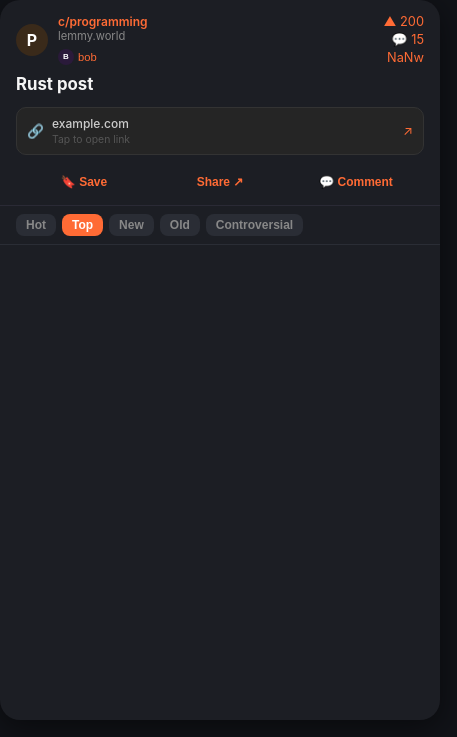
PostCard › clicking Comment button shows Commenting on post header in sheet
The width and height of the screenshot is (457, 737).
Click the button with test id "comment-button" at [356, 182], box [288, 174, 424, 188]
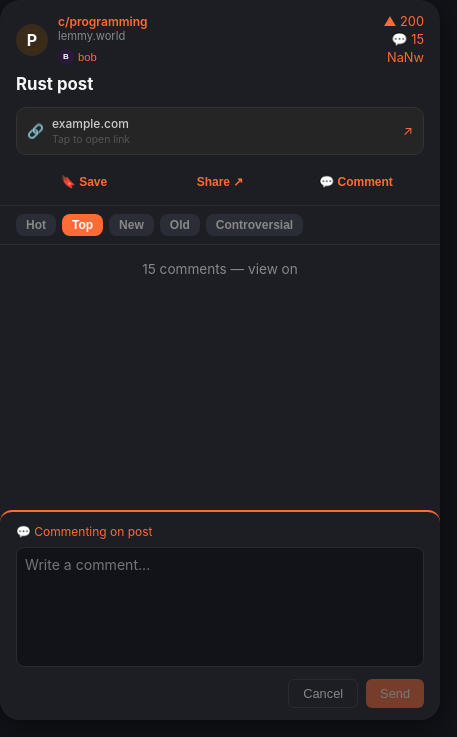
Check: the text "💬 Commenting on post" is shown, box [16, 524, 152, 539]
